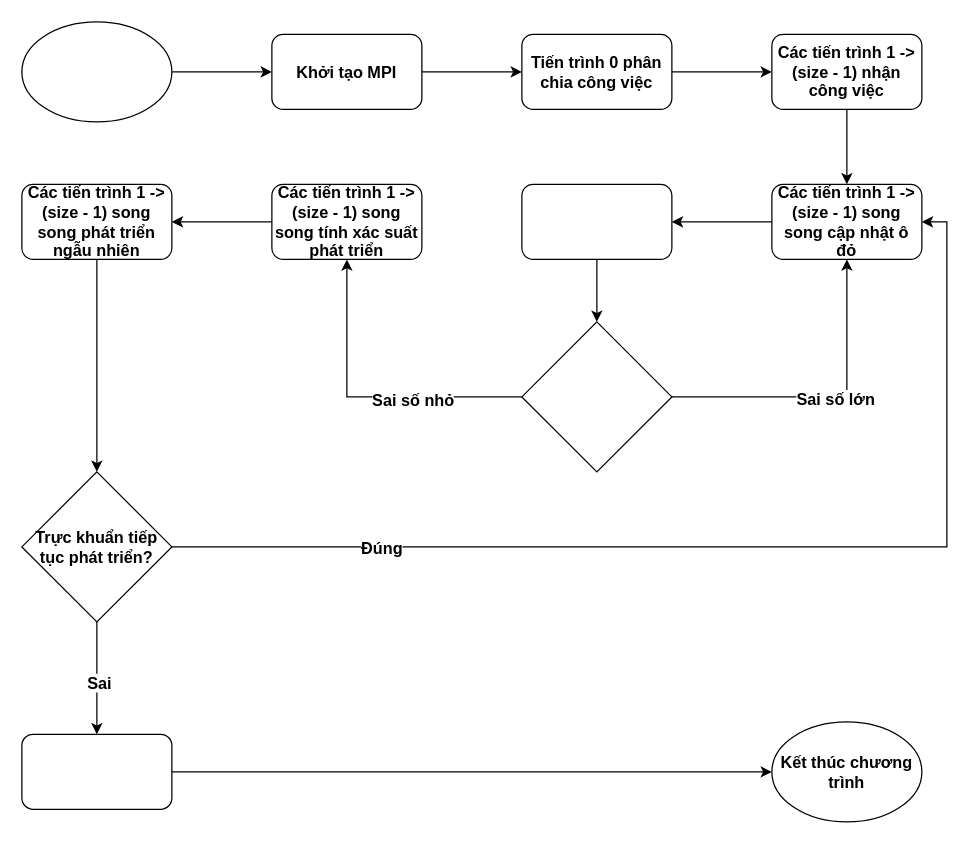
The diagram is 979 pixels wide and 844 high, and some of its shapes have lost their labels. Here are the shapes that lost their labels. From the top down, the box of each, then its label:
(21, 21, 172, 122): Khởi tạo chương trình
(521, 183, 672, 259): Các tiến trình 1 -> (size - 1) song song cập nhật ô đen
(521, 321, 672, 472): Tiến trình 0 kiểm tra sai số
(21, 733, 172, 809): Kết thúc MPI
